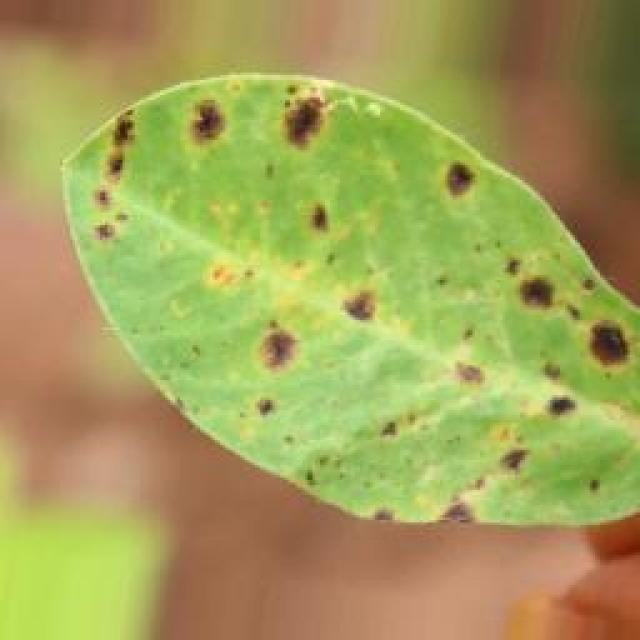Yellowish: (63, 56, 640, 529)
